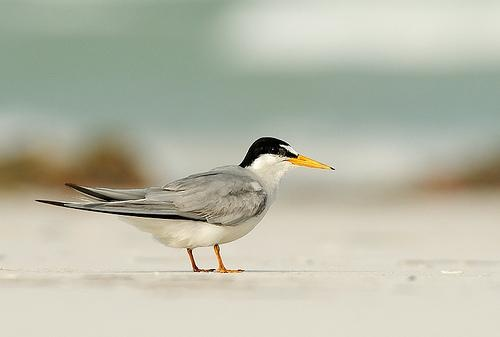bird: (35, 135, 337, 273)
